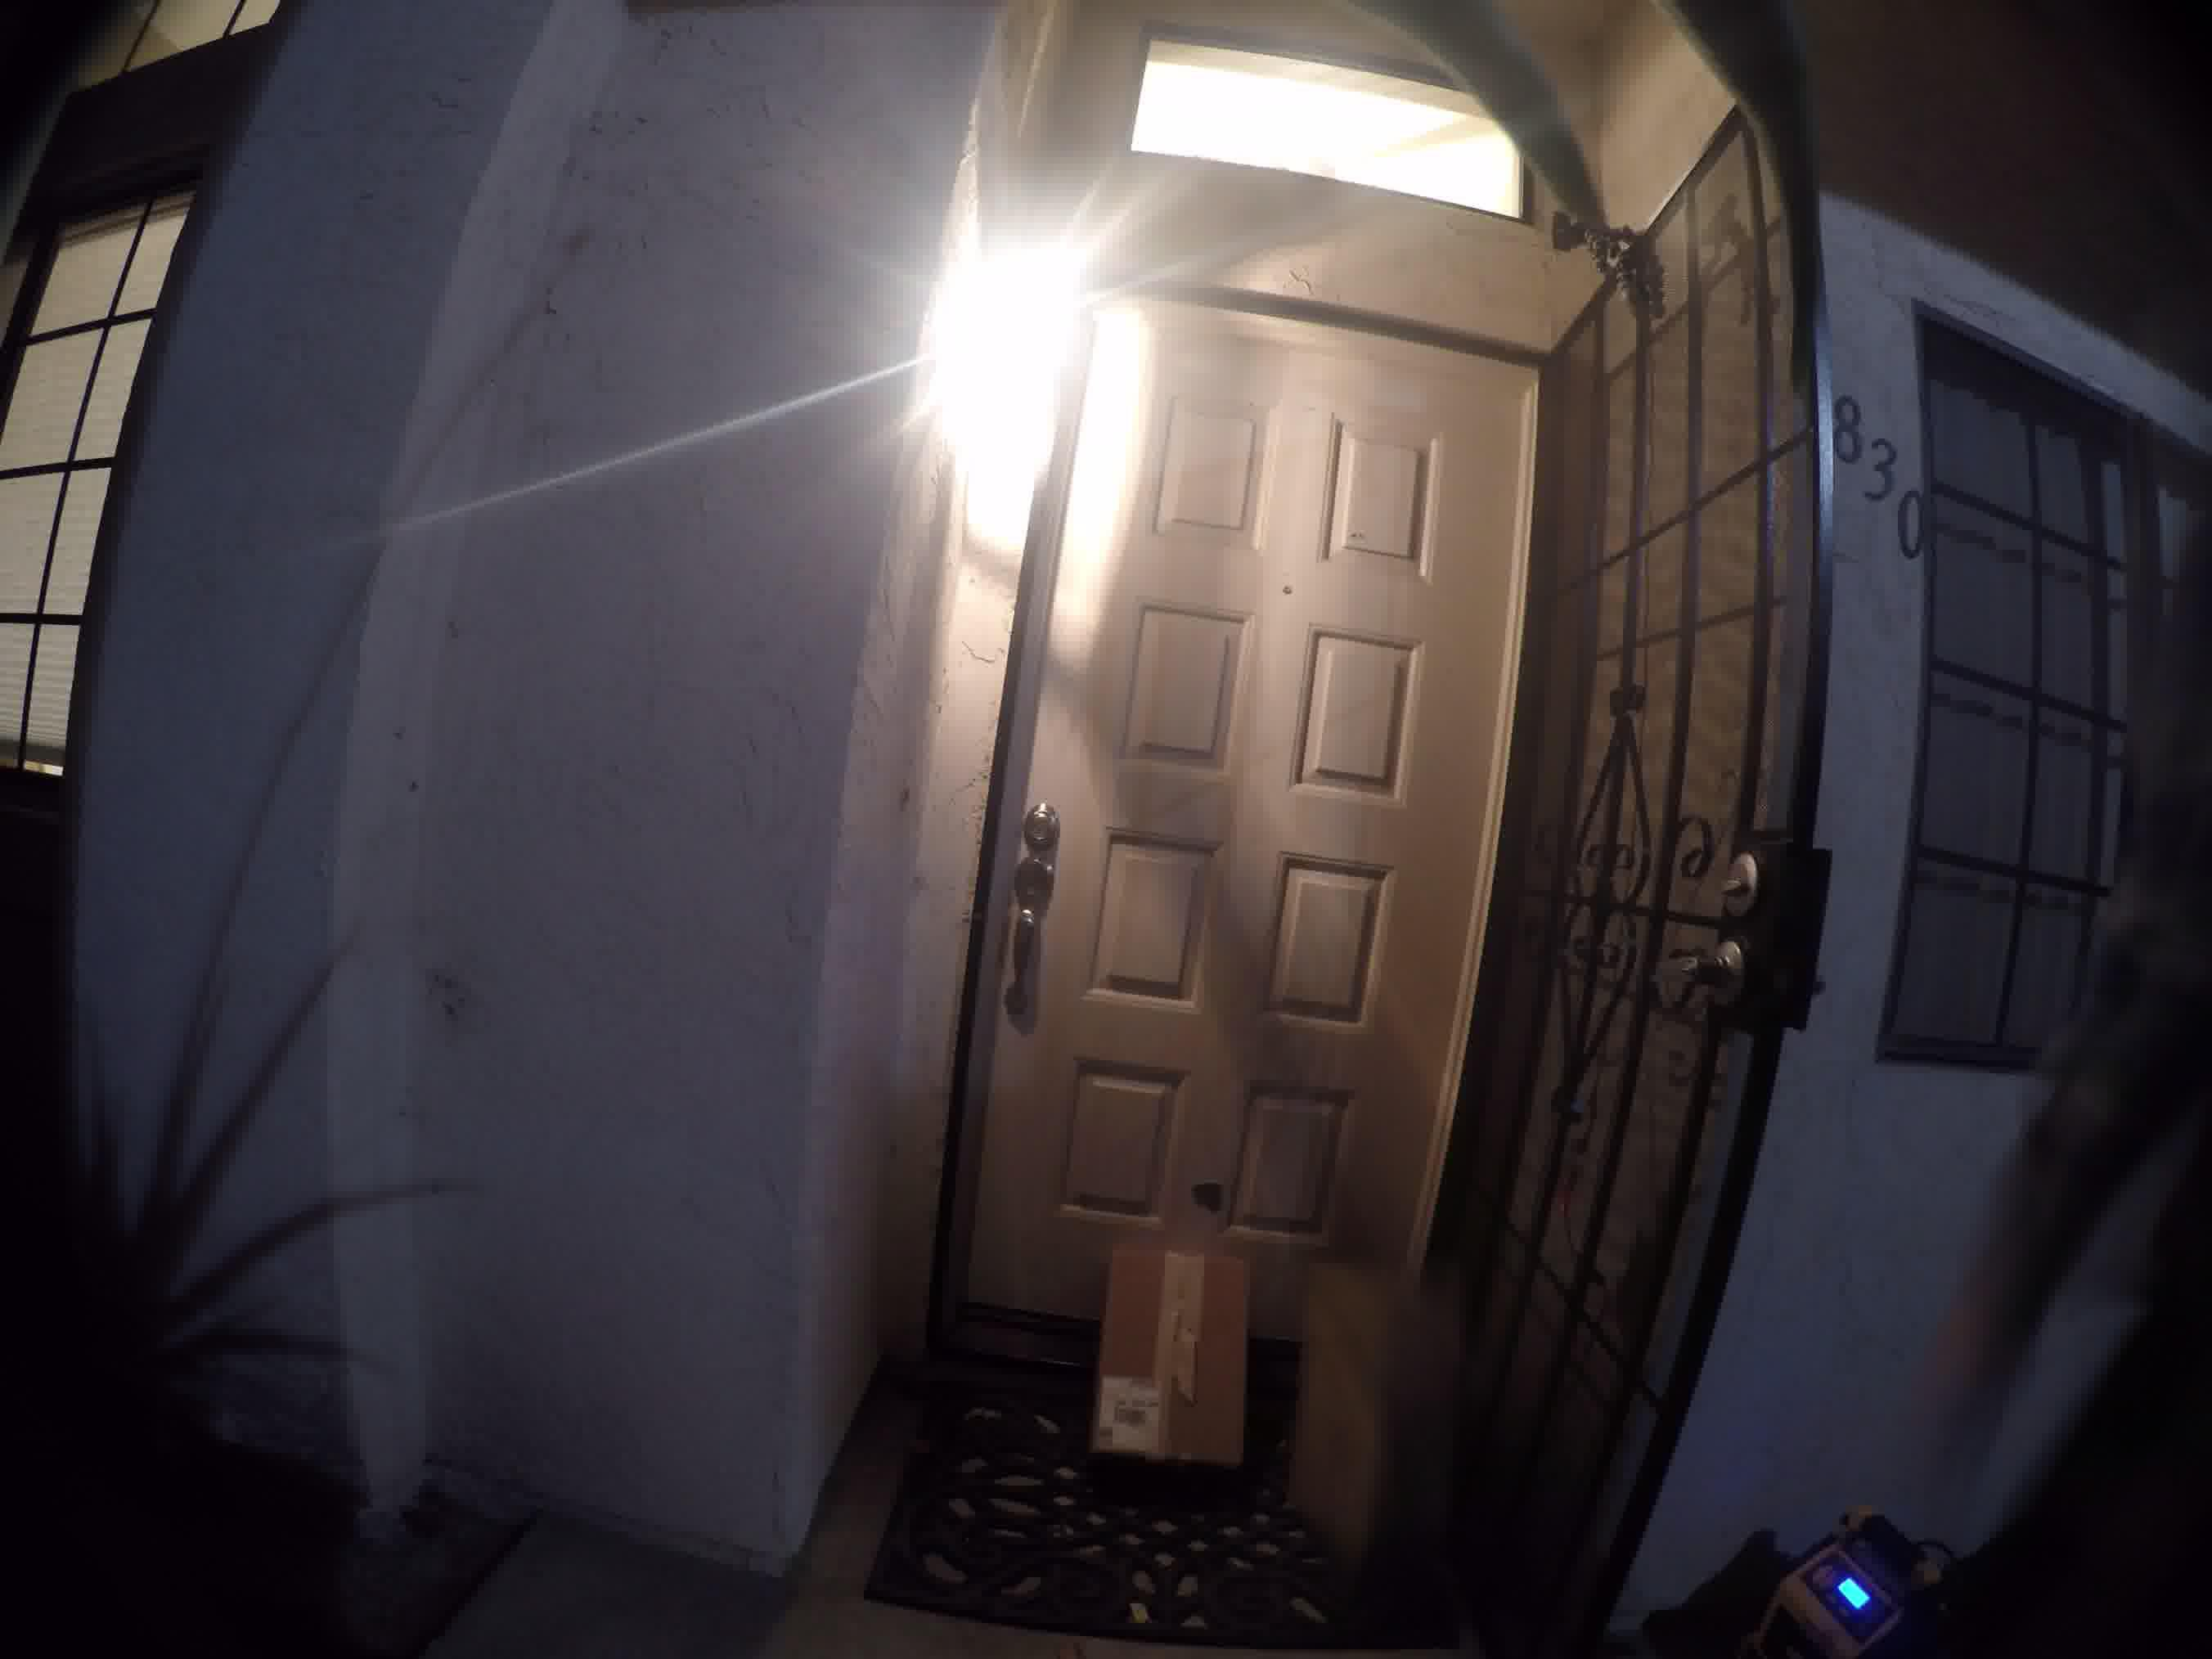box: (1287, 1227, 1496, 1584), (1099, 1227, 1259, 1497)
